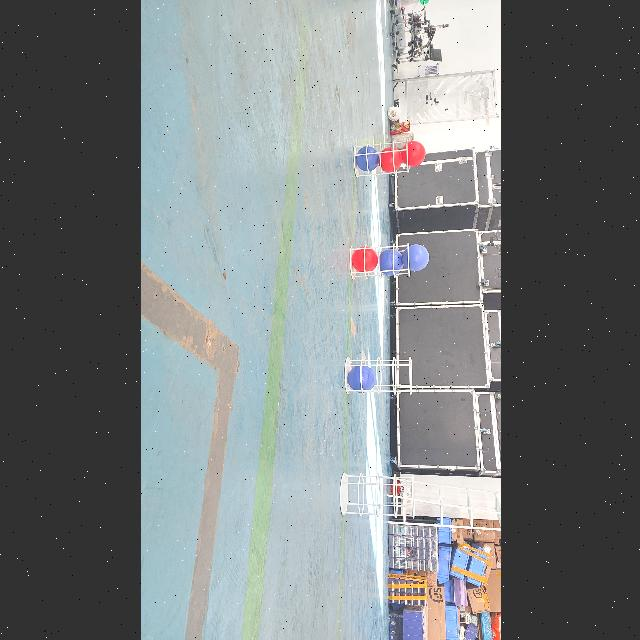B: (348, 364, 374, 392), (402, 244, 428, 272), (354, 146, 380, 172), (376, 250, 402, 276)
R: (350, 246, 378, 274), (400, 141, 426, 167), (378, 147, 402, 173)
S: (338, 472, 414, 524), (343, 352, 413, 398), (346, 240, 412, 282), (350, 138, 410, 180)
